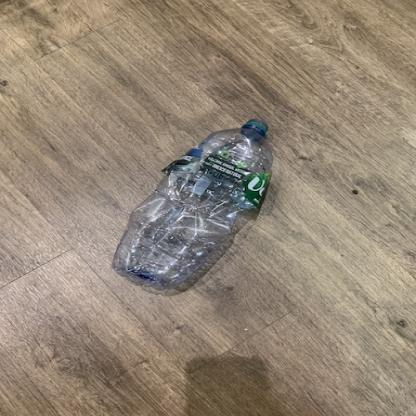trash: (108, 119, 280, 294)
